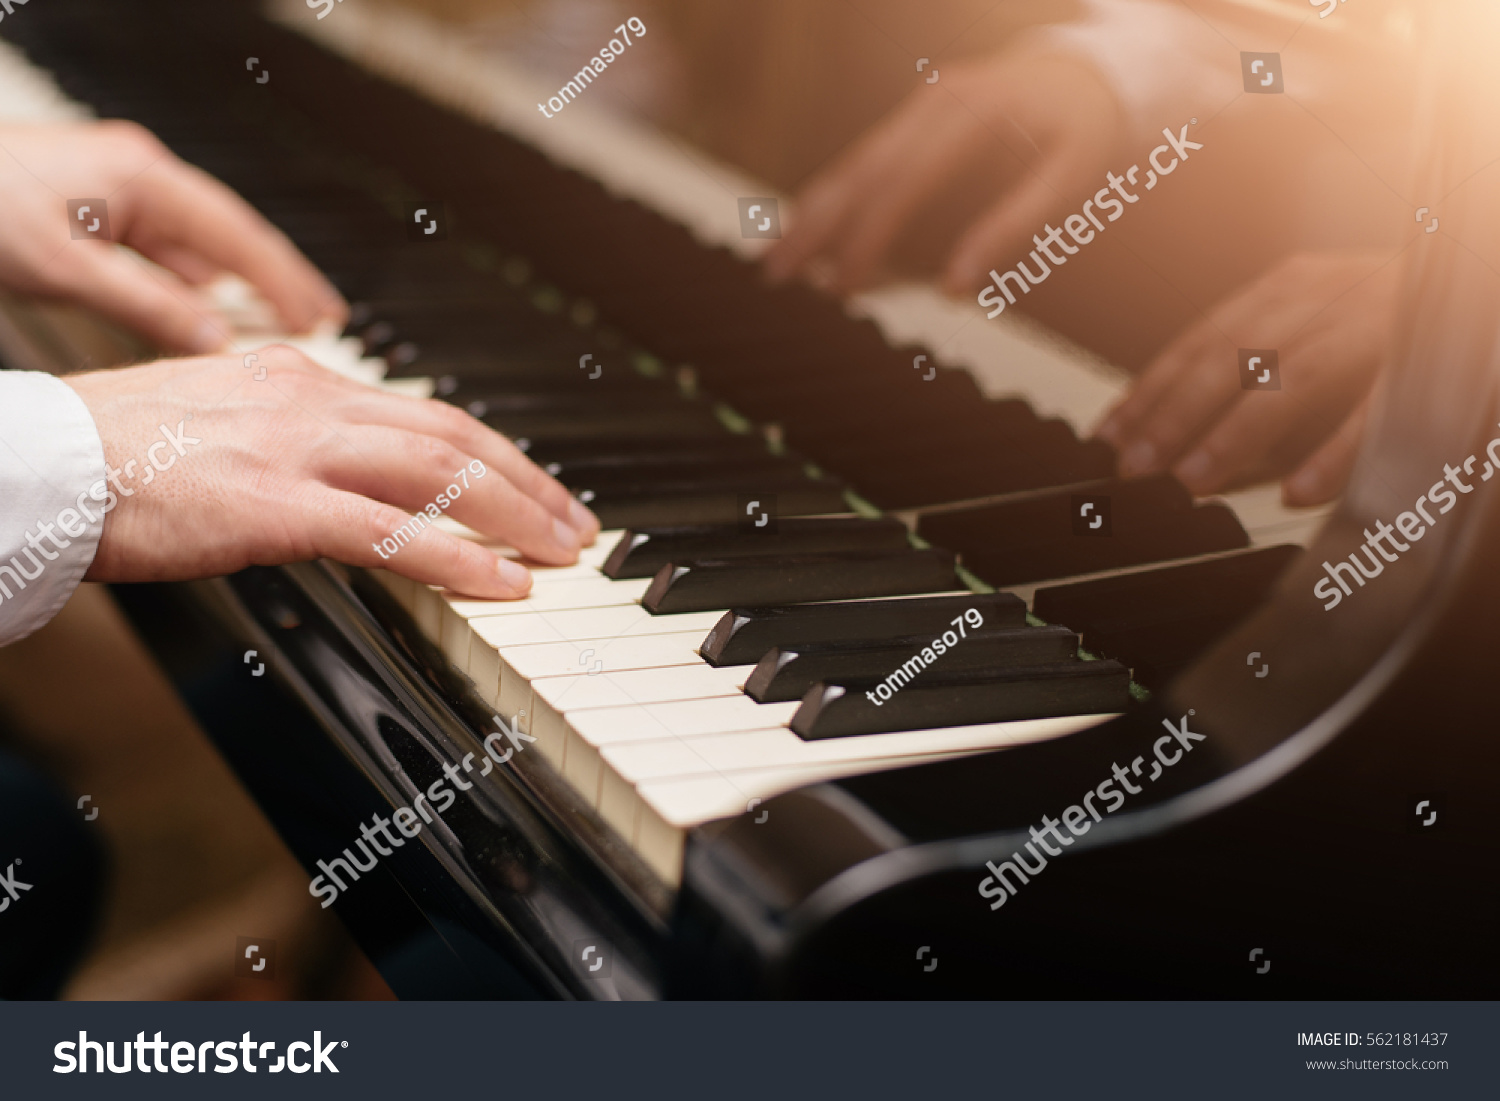Piano: (225, 41, 1403, 1008)
